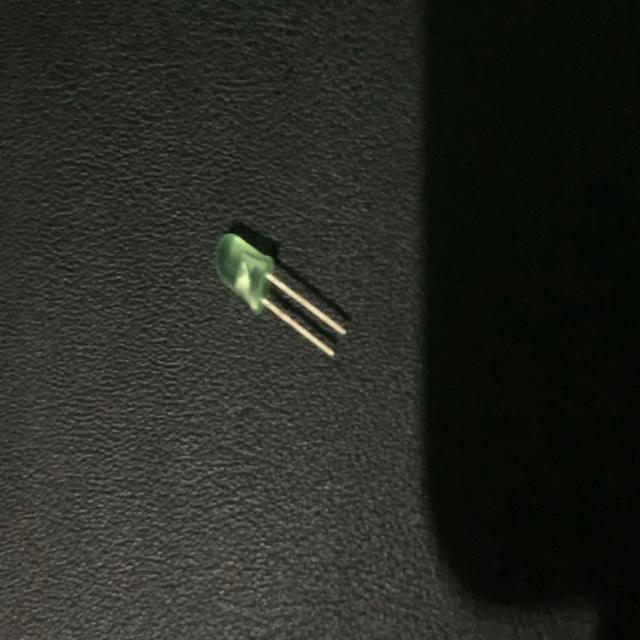LED: (214, 225, 349, 368)
